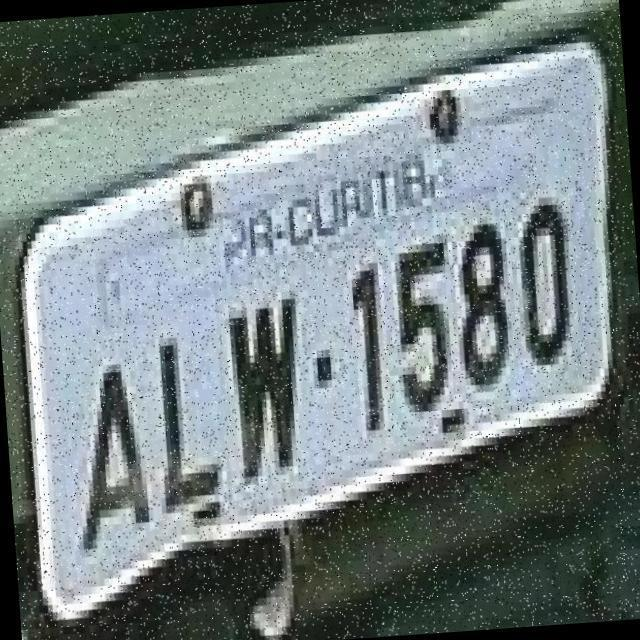License Plate: (12, 86, 632, 574)
